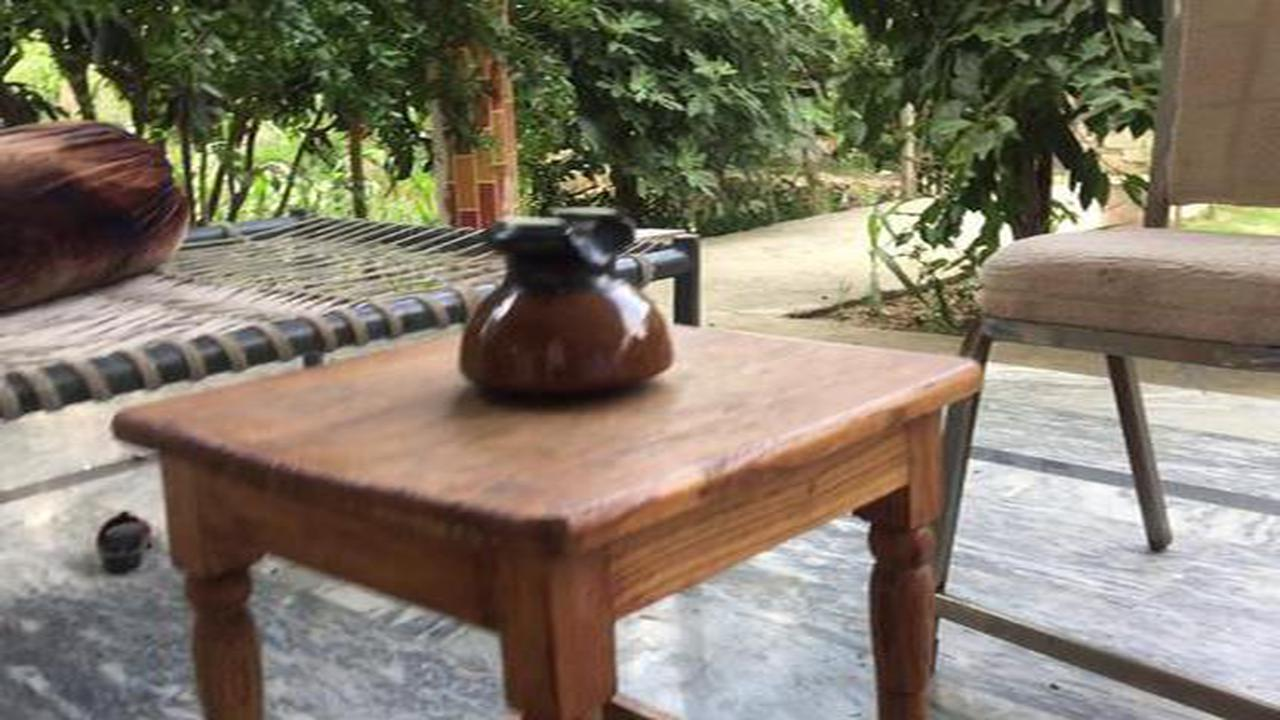insulator_pin: (422, 193, 705, 407)
